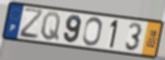1: (109, 20, 119, 50)
3: (124, 23, 144, 53)
9: (62, 13, 83, 45)
O: (81, 16, 103, 47)
Q: (40, 11, 62, 43)
Z: (19, 7, 45, 41)
